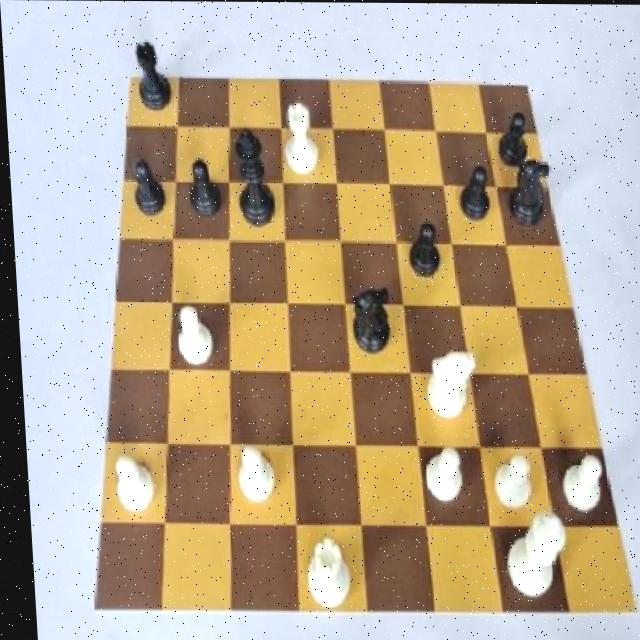black-bishop: (226, 121, 275, 231)
black-king: (344, 276, 392, 356)
black-knight: (400, 216, 447, 286), (182, 149, 224, 220), (488, 106, 530, 174), (451, 158, 493, 224), (127, 154, 166, 222)
black-queen: (130, 31, 178, 119)
white-bishop: (491, 504, 562, 607)
white-king: (411, 341, 480, 430)
white-knight: (549, 446, 601, 521), (103, 451, 155, 525), (225, 446, 281, 512), (481, 449, 533, 514), (413, 449, 465, 508), (166, 307, 216, 367)
white-queen: (294, 536, 353, 610), (276, 95, 322, 183)
